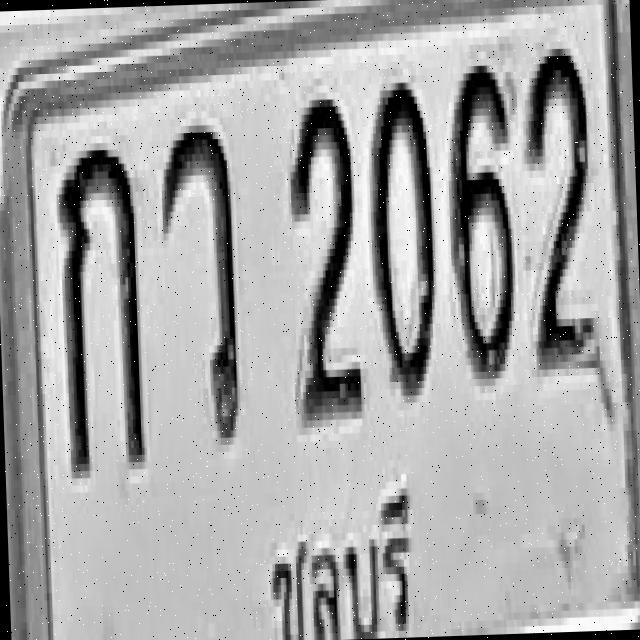0: (366, 74, 438, 396)
10GorGai: (56, 141, 146, 471)
2: (523, 44, 600, 373), (285, 92, 362, 420)
46WorWaen: (156, 117, 241, 446)
6: (444, 58, 516, 380)
Chonburi: (257, 471, 432, 640)
